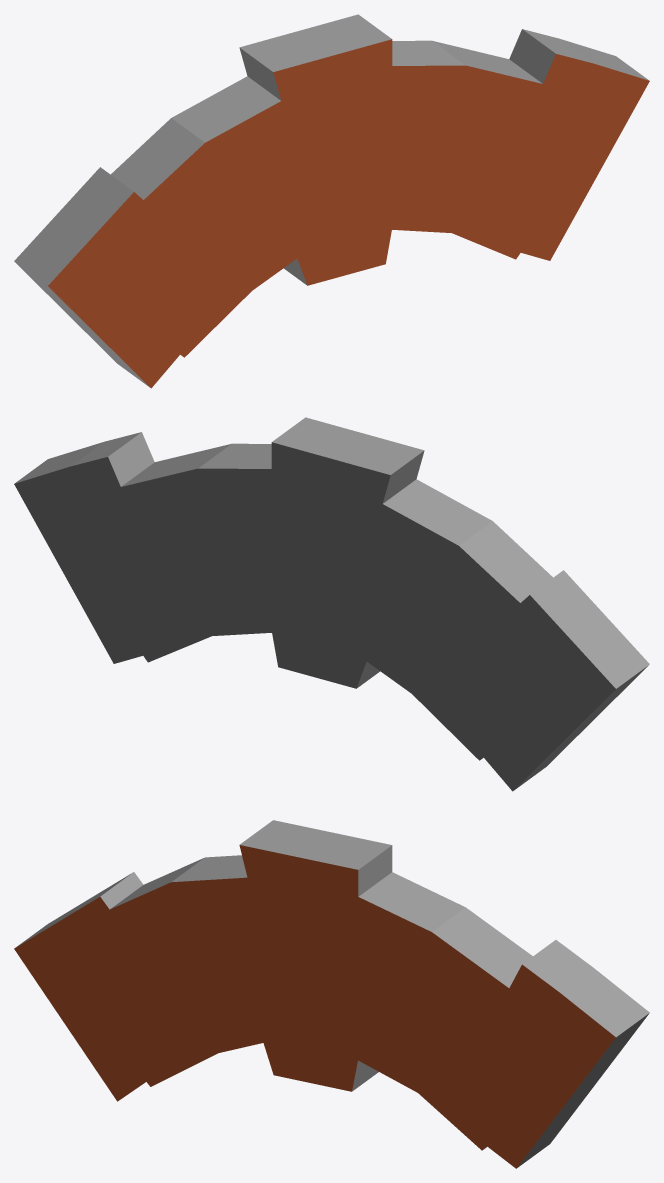
File: construction_3405_assumed_A_Tribunal_h6m.obj
3 views of the same model, one above another, from view 1: azimuth 30°, elevation 25°; view 2: azimuth 150°, elevation 25°; view 3: azimuth 330°, elevation 25° (orthographic).
Visible parts, largest first — view 1: construction_3405_assumed_A_Tribunal; view 2: construction_3405_assumed_A_Tribunal; view 3: construction_3405_assumed_A_Tribunal.
Boxes of the visible parts, x1,y1,x2,y2 form: construction_3405_assumed_A_Tribunal: [14, 14, 649, 388]; construction_3405_assumed_A_Tribunal: [14, 417, 649, 791]; construction_3405_assumed_A_Tribunal: [14, 820, 649, 1168].
Size of the model in its own units: 61.55 by 28.39 by 6.
